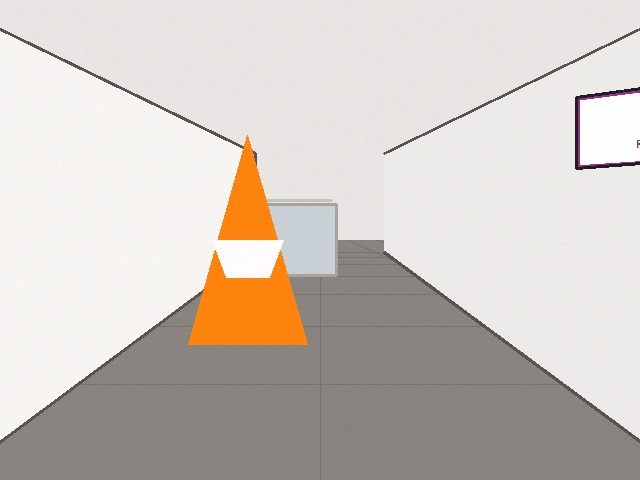directional_sign: (576, 72, 639, 168)
hospital_bed: (233, 204, 336, 275)
obstacle: (188, 135, 307, 344)
